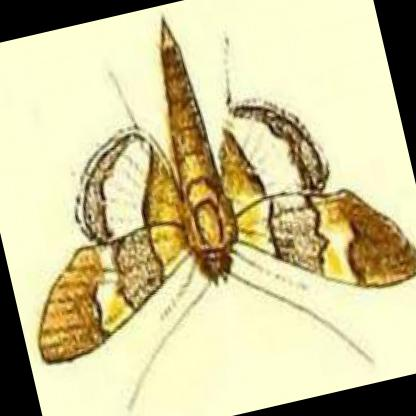Leaf Webber: (43, 16, 416, 363)
